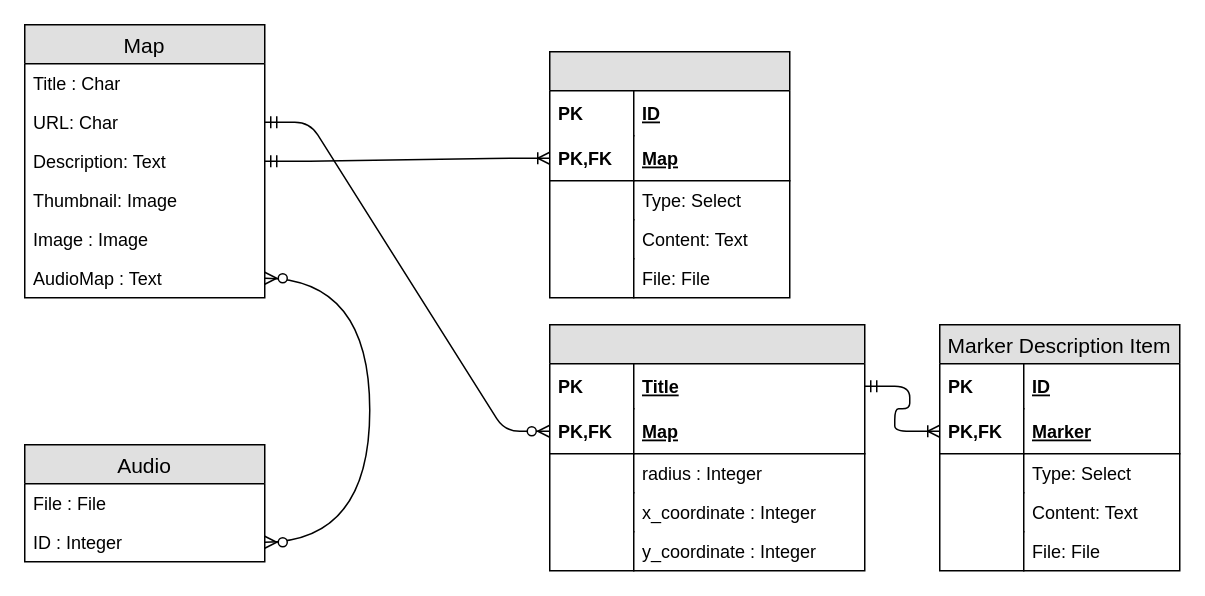
Image size: 1205x596. Some labels were removed from this diagram. The box of each missing label's shape, as (x1, y1, x2, y2) in pixels:
Map Description Item: (548, 50, 790, 298)
Markers: (548, 323, 865, 571)
